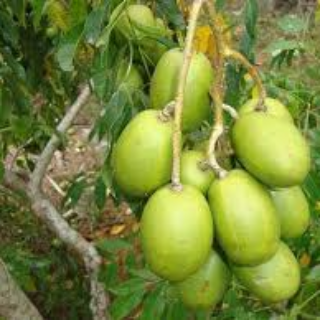coc: (141, 183, 215, 282), (209, 167, 280, 265), (232, 113, 309, 186)
